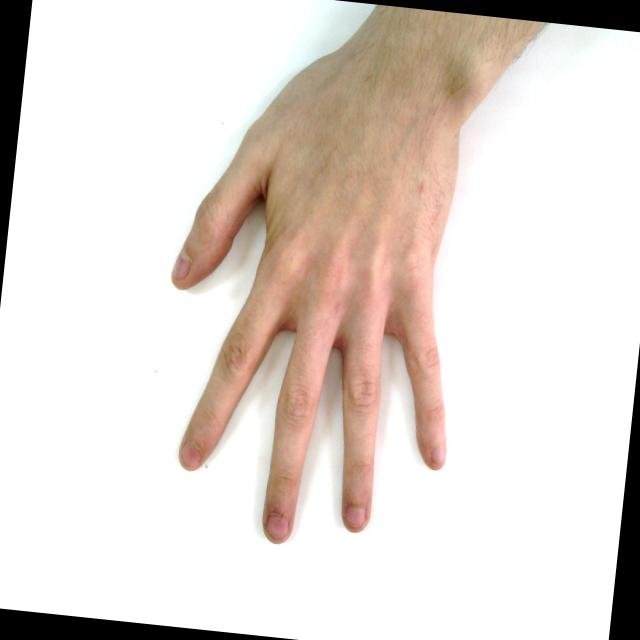Nail: (171, 247, 190, 282), (265, 515, 288, 543), (179, 441, 201, 470), (344, 507, 365, 532), (431, 446, 446, 465)
